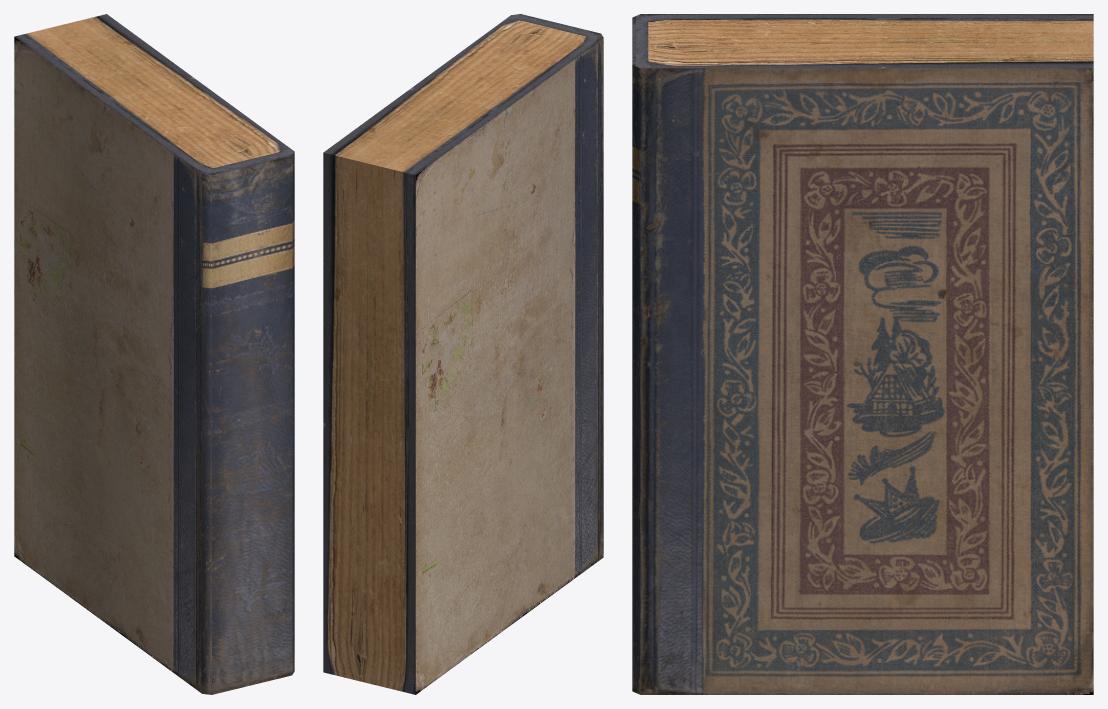
The model's file is book.gltf.
The picture shows the model from 3 angles, left to right: view 1: azimuth 30°, elevation 25°; view 2: azimuth 150°, elevation 25°; view 3: azimuth 270°, elevation 25°; orthographic projection. The views are drawn at different scales.
Visible parts, largest first — view 1: Box001; view 2: Box001; view 3: Box001.
Boxes of the visible parts, left/top/right/bottom form: Box001: left=14, top=14, right=294, bottom=694; Box001: left=323, top=14, right=603, bottom=694; Box001: left=632, top=14, right=1093, bottom=694.
Bounding box in the file's own units: 0.0861 × 0.4621 × 0.3085.
